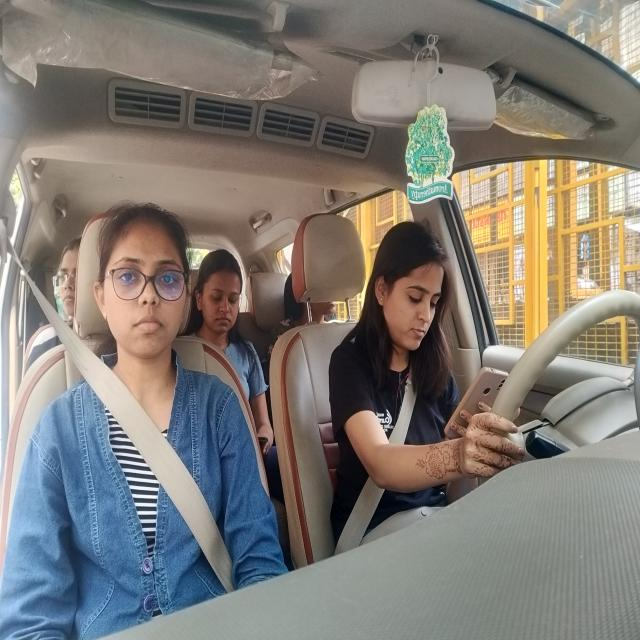mobile: (462, 358, 507, 435)
person: (97, 212, 190, 354), (375, 238, 456, 346), (202, 253, 246, 335), (42, 250, 82, 334), (290, 282, 347, 322)
